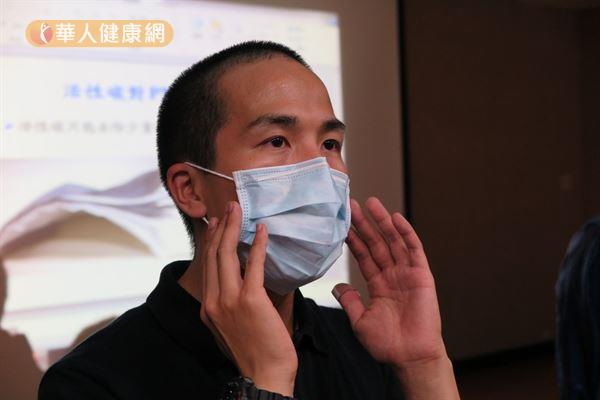mask: (235, 159, 351, 294)
